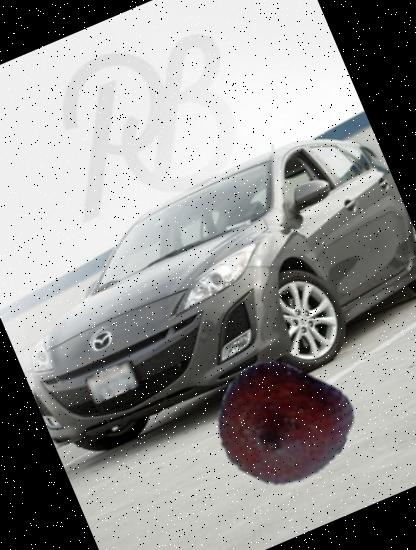Salak: (196, 338, 368, 510)
